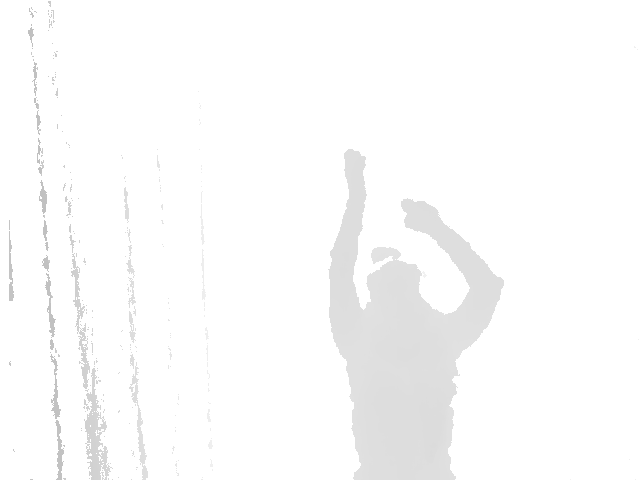hand: (400, 195, 446, 237), (343, 147, 369, 203)
head: (363, 246, 427, 310)
person: (326, 146, 507, 479)
